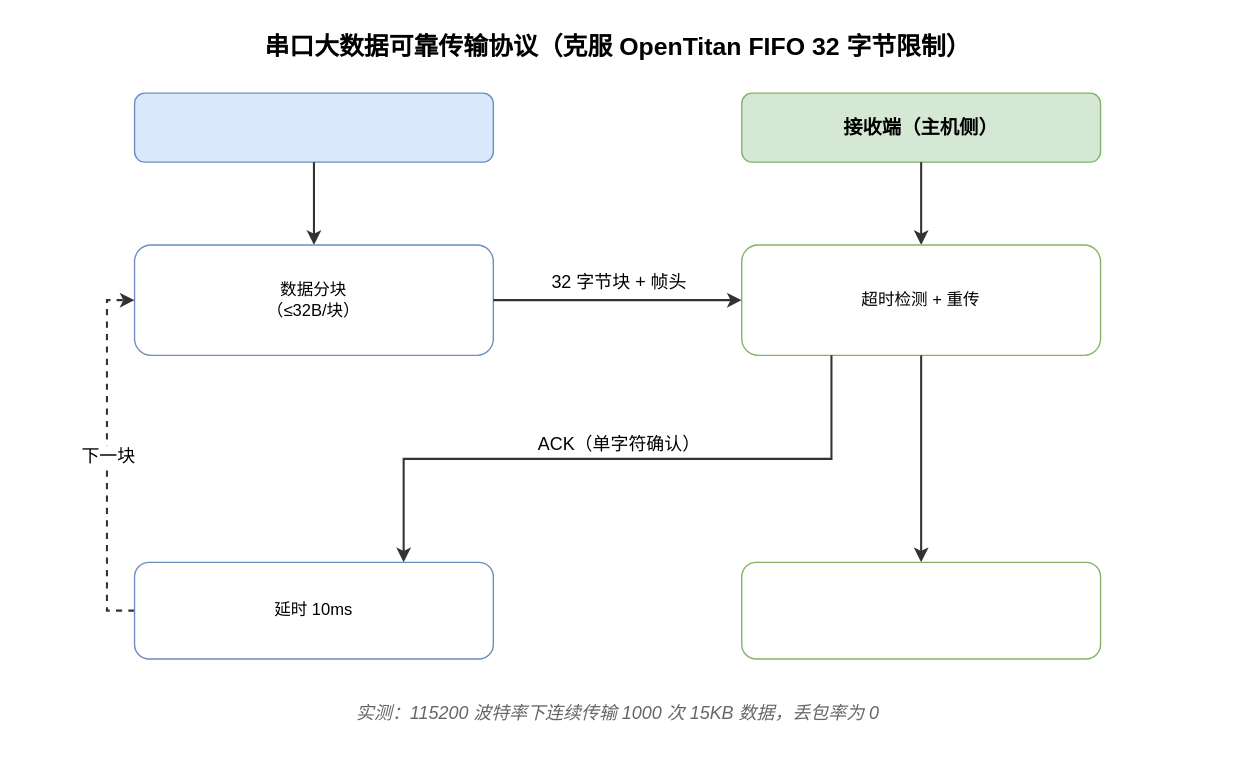
Image size: 1234x758. Some labels were removed from this diagram. The centre of each missing label's shape, as x and y in pixels:
发送端（设备侧）: point 313,127
拼接完整数据包: point 920,610
